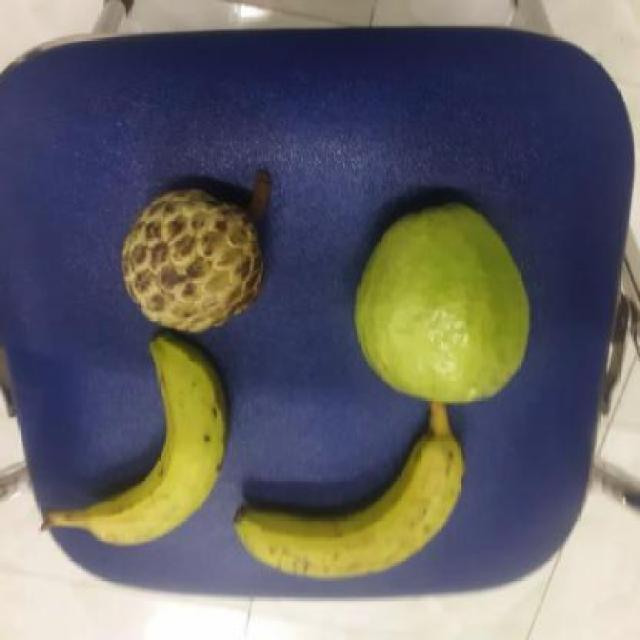banana: (226, 420, 469, 592), (71, 331, 237, 554)
guava: (352, 196, 536, 407)
sugar apple: (112, 188, 266, 334)
